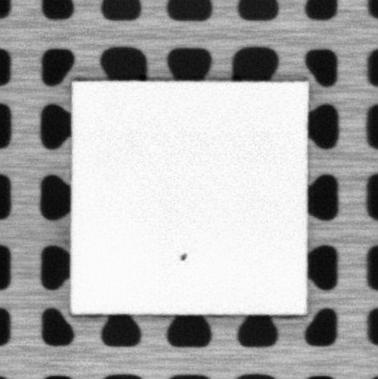DIE_INK: (177, 250, 188, 261)
